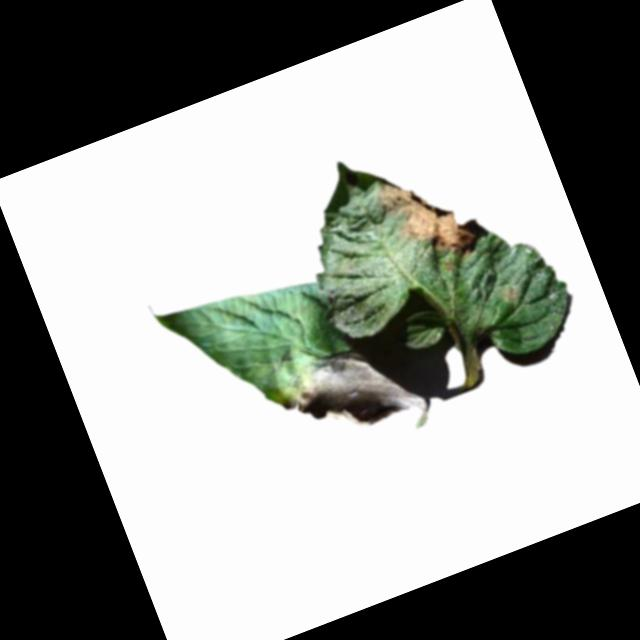Late_blight: (271, 330, 426, 451), (369, 151, 488, 279), (499, 280, 523, 306)
